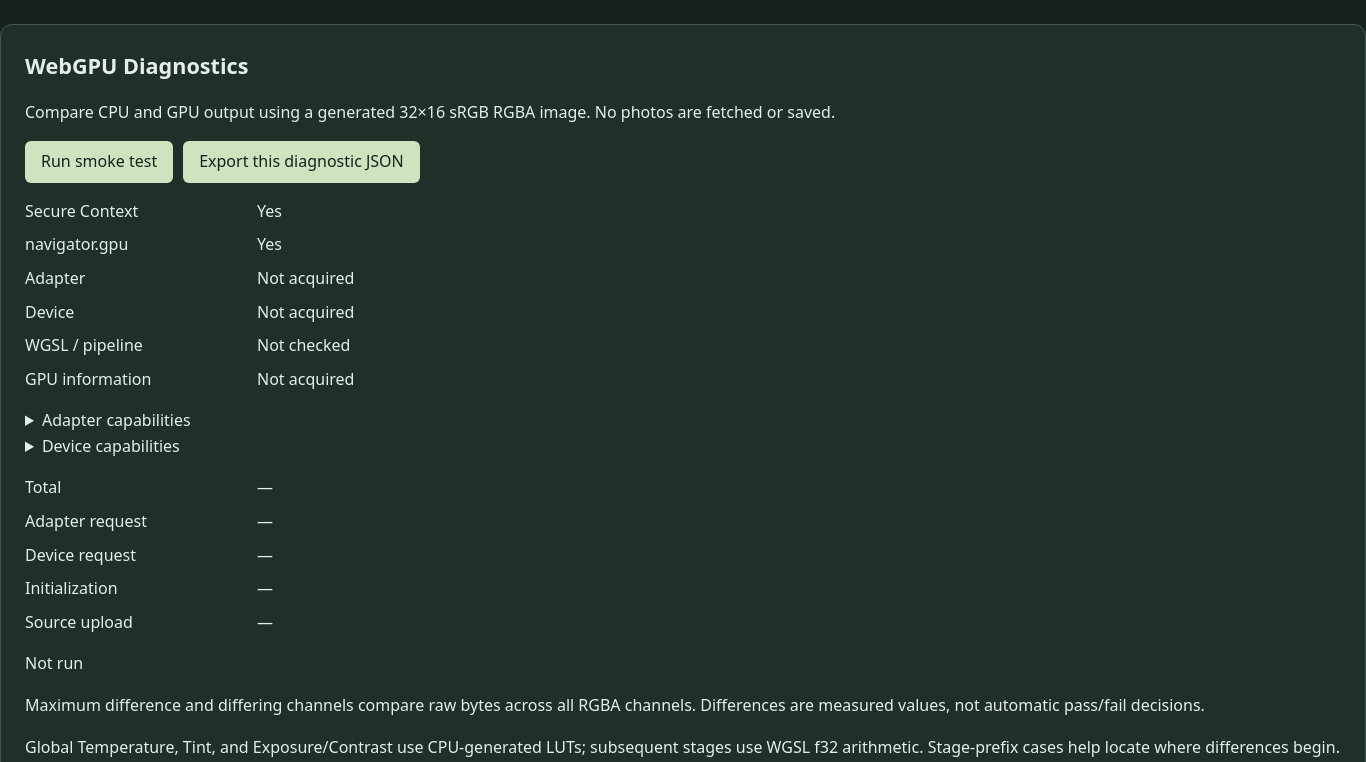
escapes raw GPU errors and translates failure state in en
The image size is (1366, 762).
Click the button "Run smoke test" at (99, 162), box [25, 141, 173, 183]
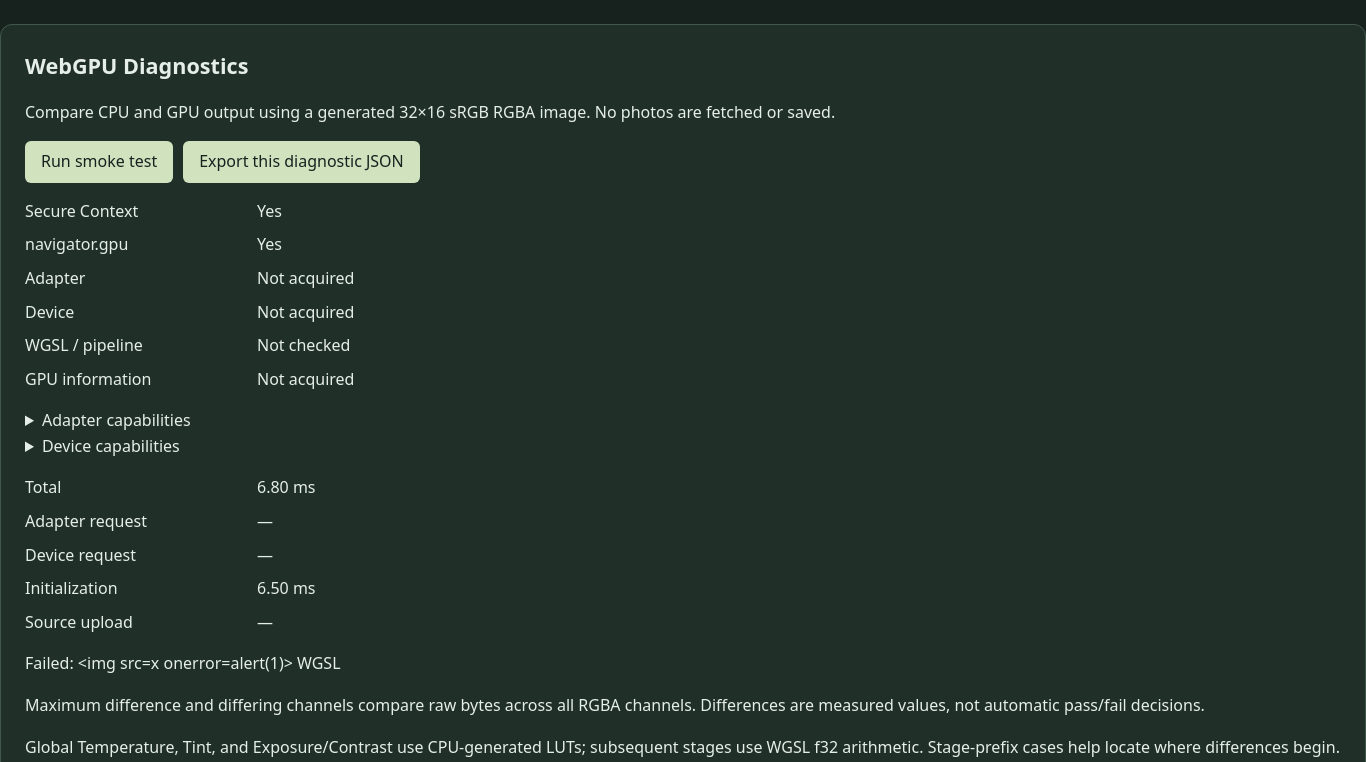
expect the text "Failed" is shown: met, box [25, 652, 340, 674]
